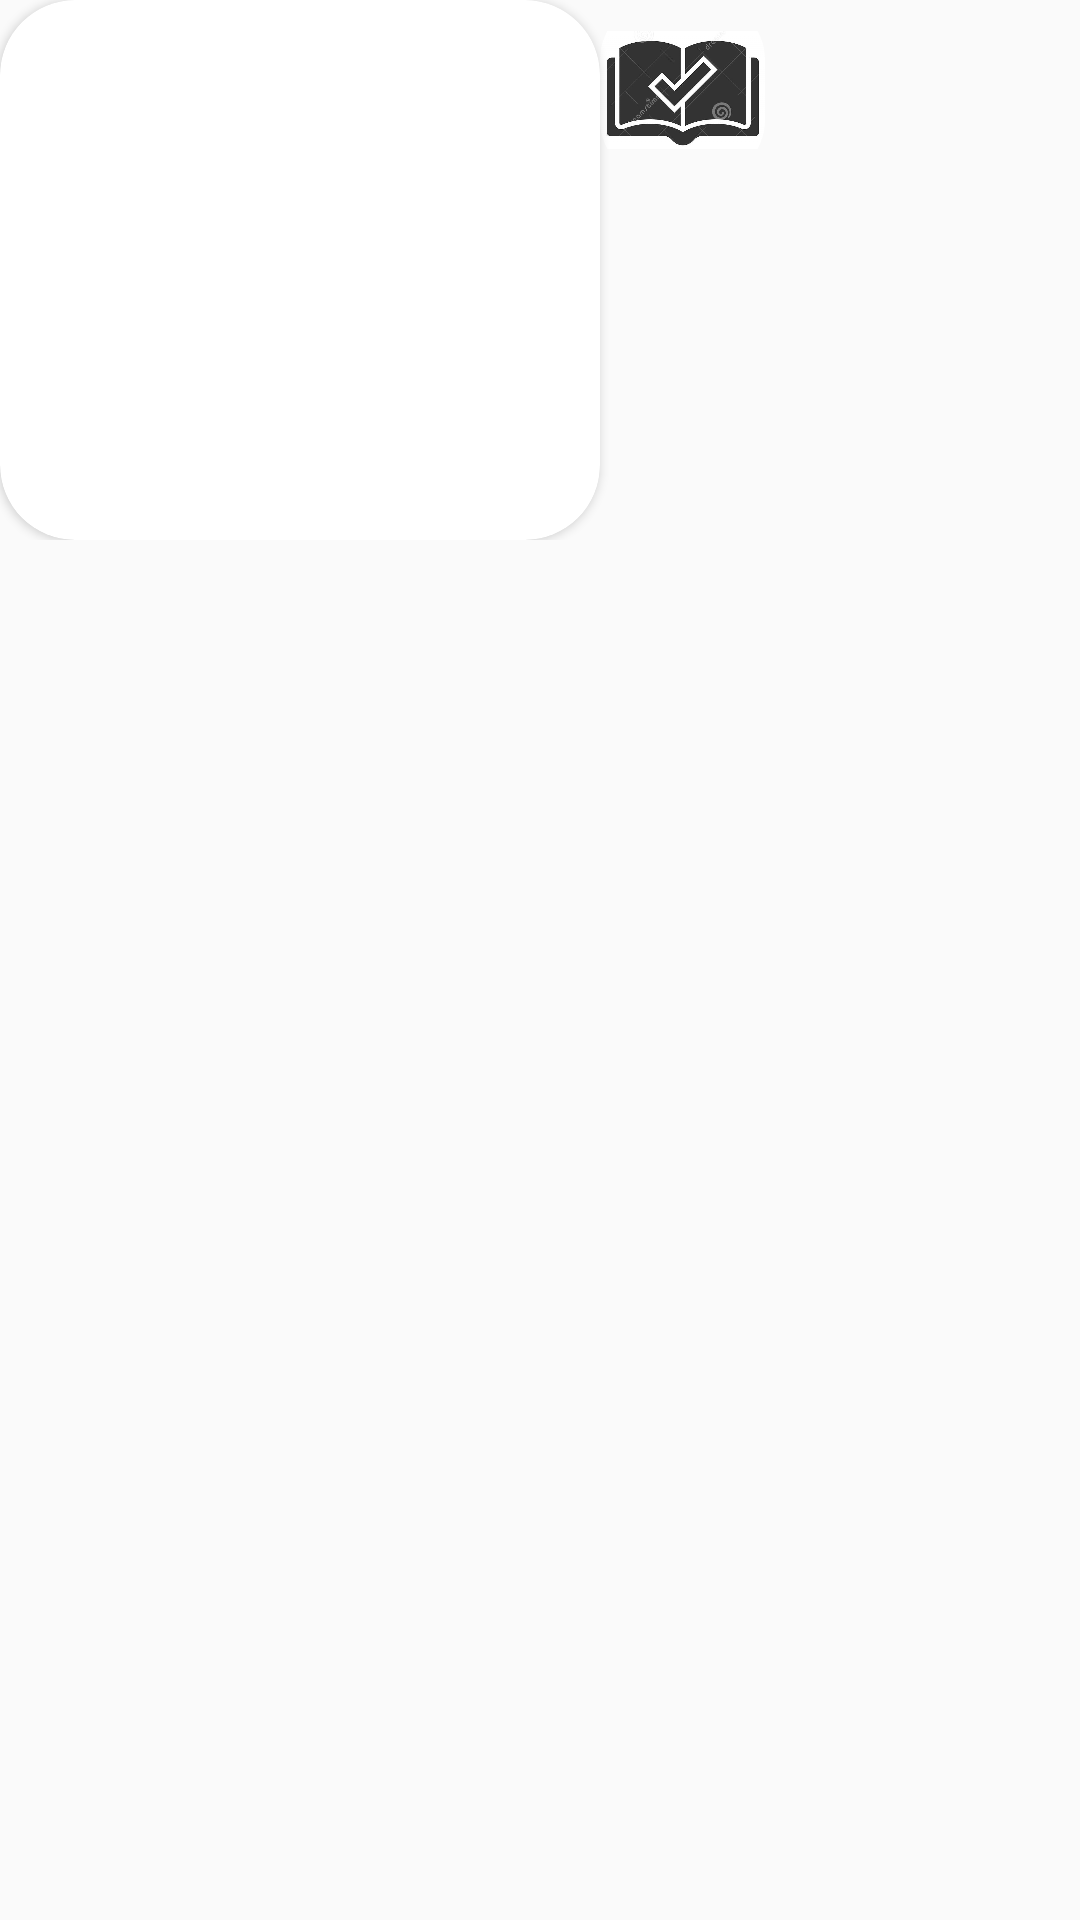

Point at icon controls on the screen. Image size 1080 x 1920, points as (x=x, y=y).
checkmark: (x=683, y=93)
